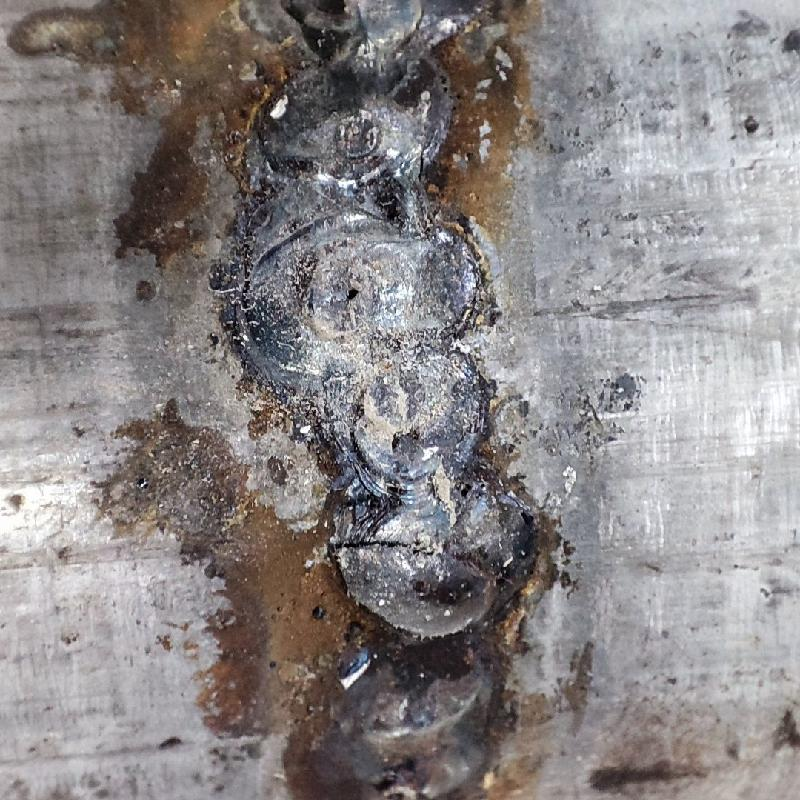Not_fully_soldered: (244, 5, 499, 625)
Surface_pores: (316, 265, 388, 335)
